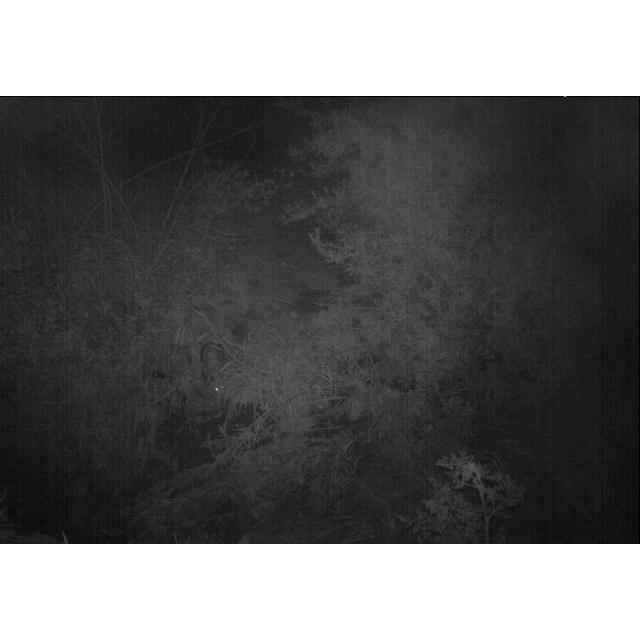animals: (200, 339, 232, 398)
